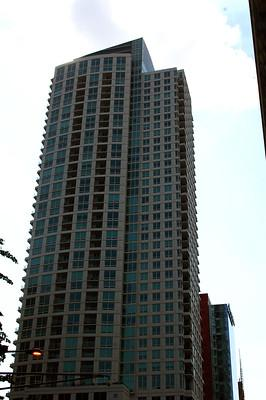building: (7, 34, 209, 400)
